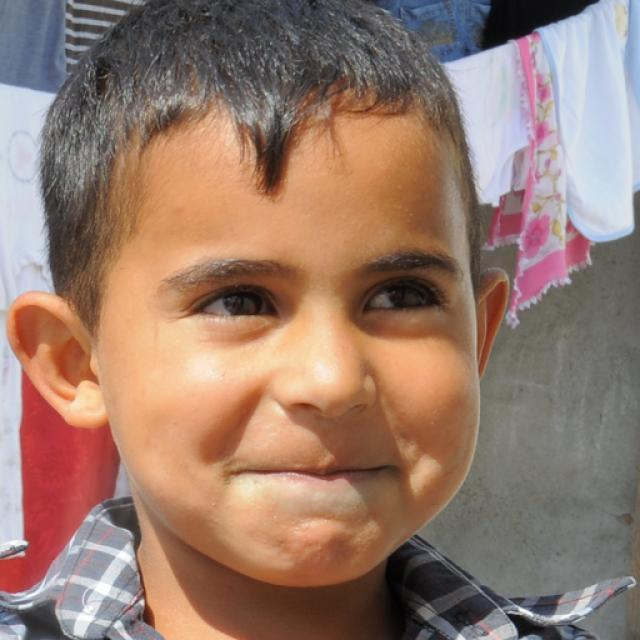happy: (100, 107, 480, 588)
